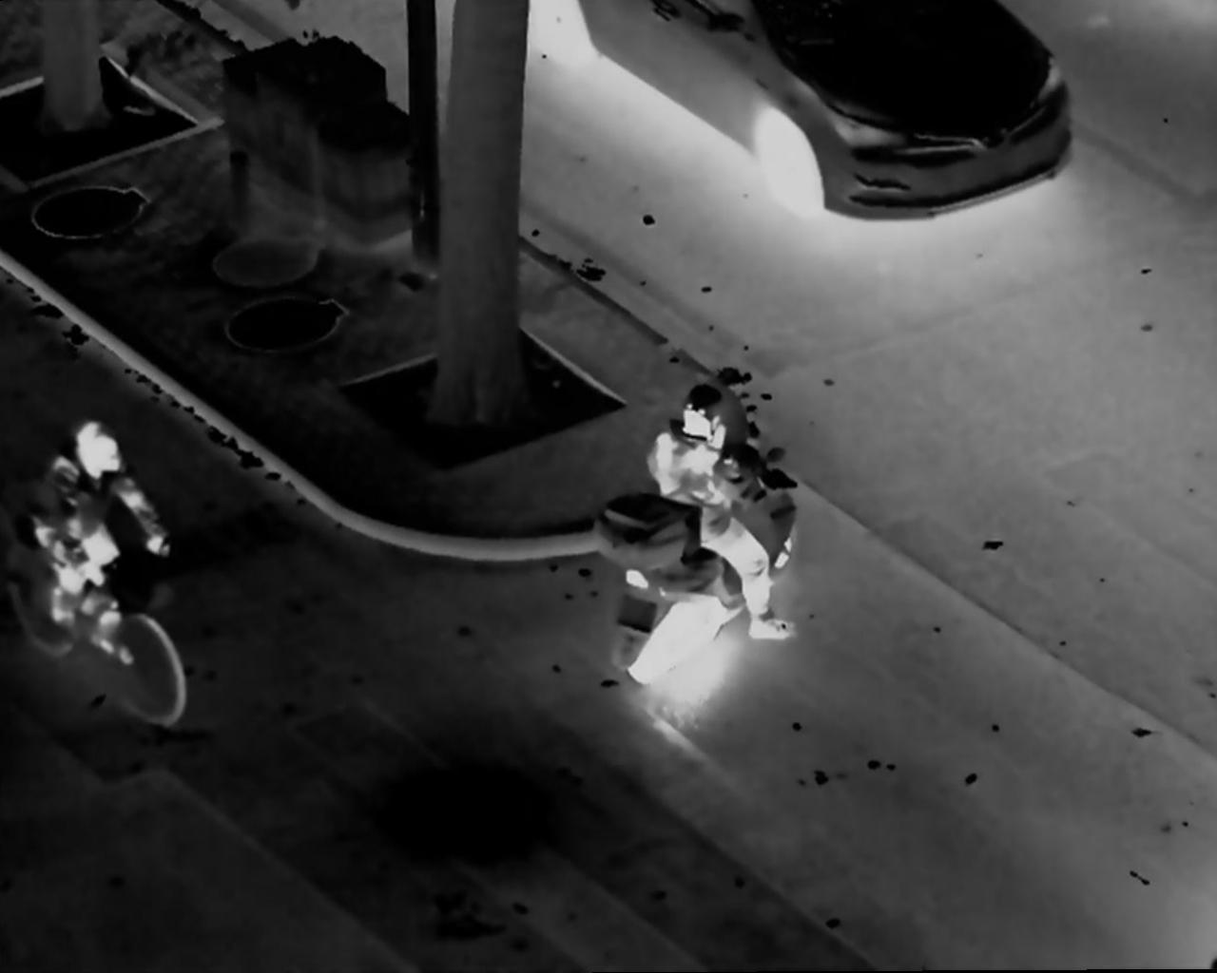person: (642, 380, 802, 648), (33, 416, 172, 678)
